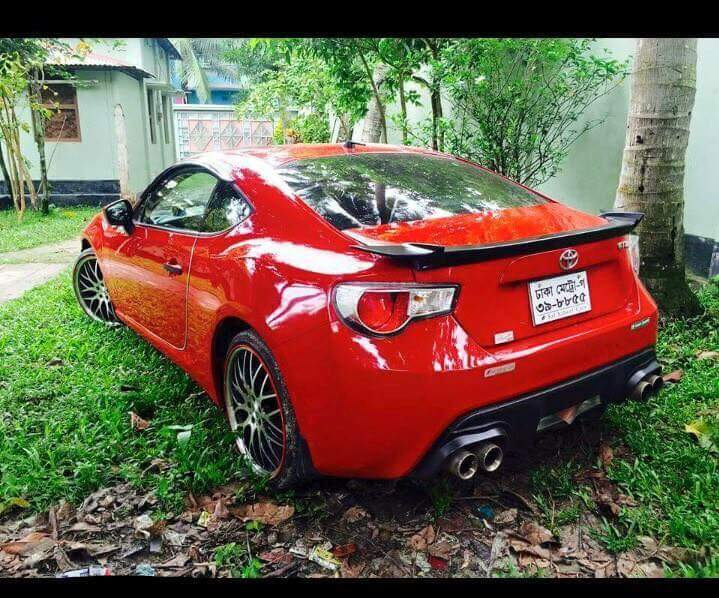registration_plate: (527, 270, 592, 327)
